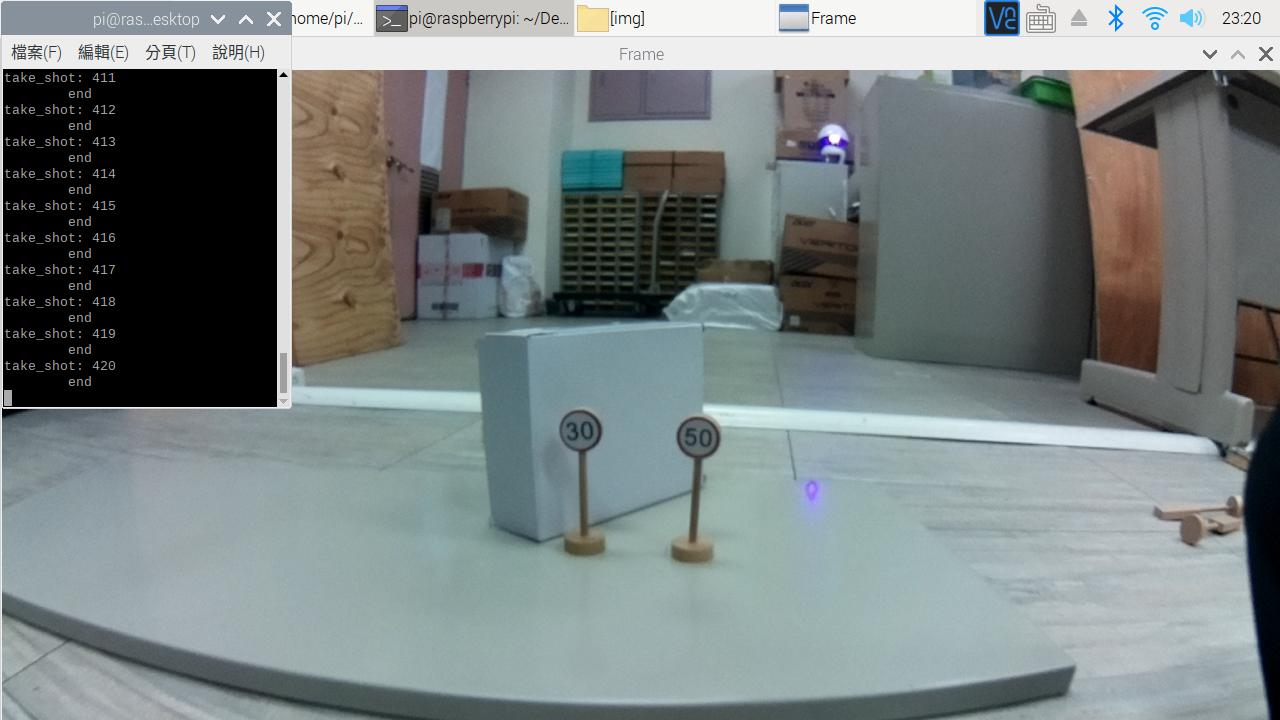Speed30: (546, 385, 613, 468)
Speed50: (664, 404, 734, 472)
